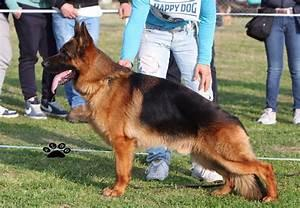dog: (41, 19, 279, 203)
